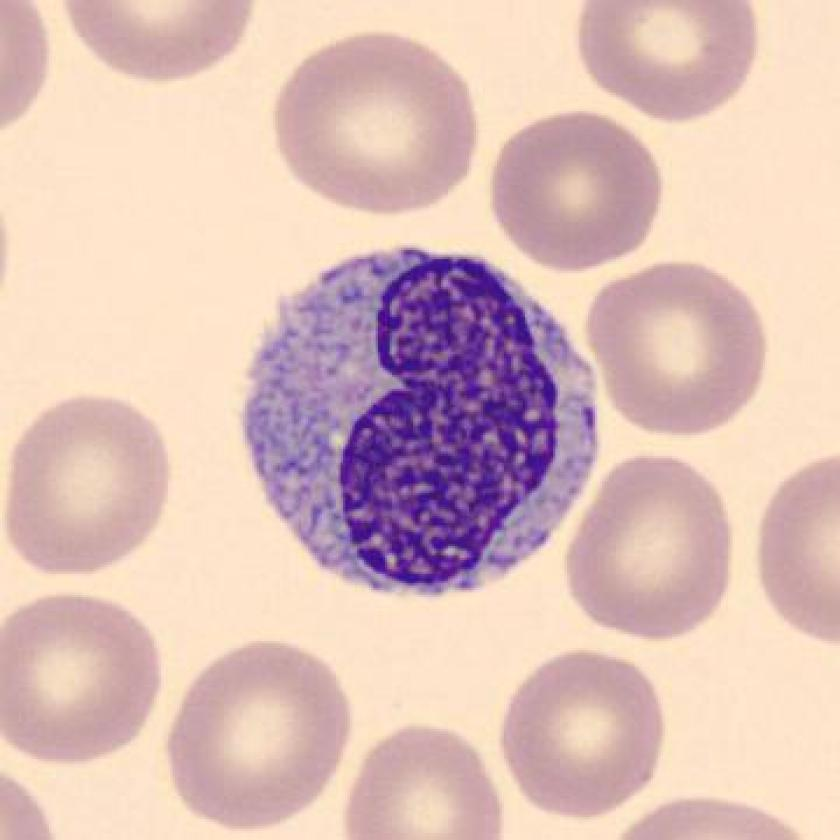monocyte: (227, 216, 624, 619)
